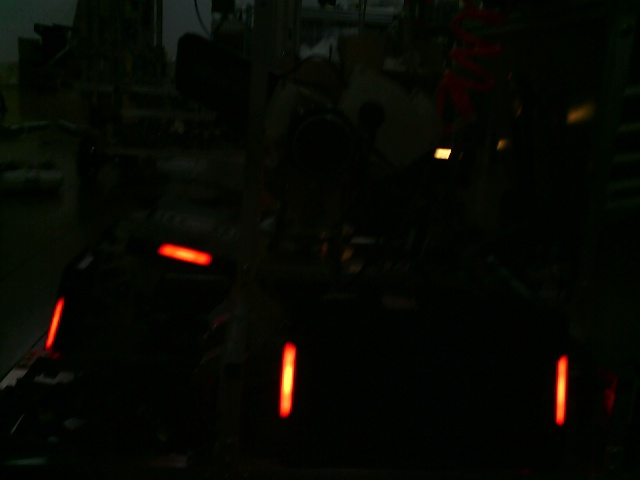lamp: (276, 342, 300, 423), (549, 355, 575, 429), (46, 296, 65, 354)
